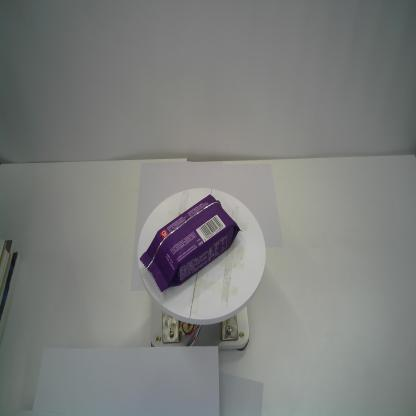Dessert: (137, 192, 245, 294)
